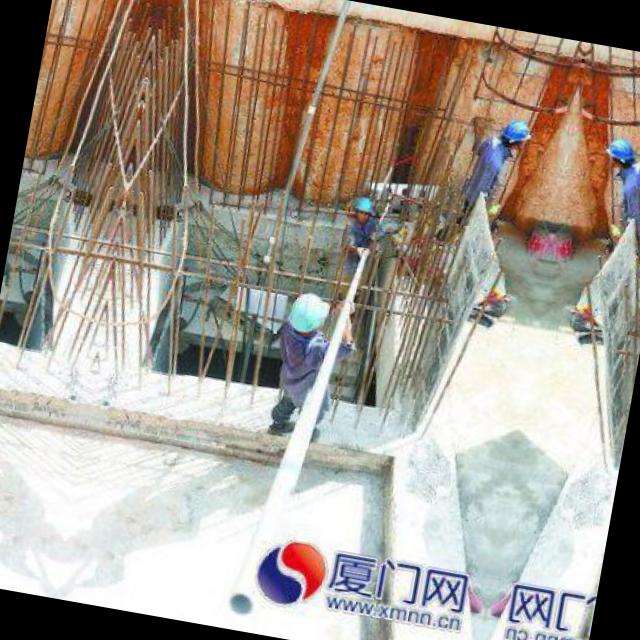helmet: (276, 282, 330, 362), (496, 112, 533, 156), (601, 131, 638, 174), (351, 195, 374, 225)
